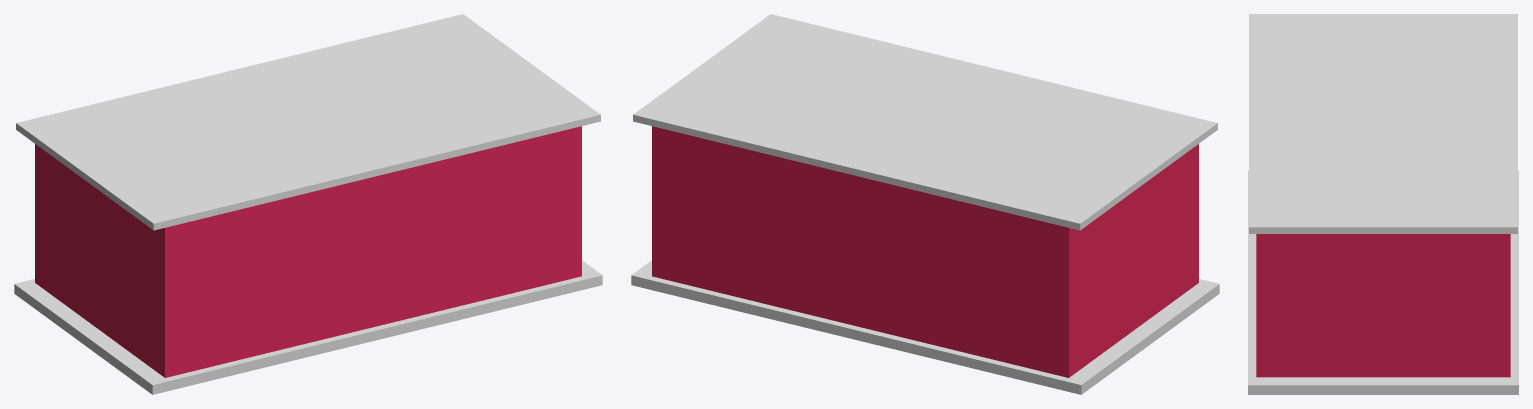
File: vat_of_goop.fbx
The picture shows the model from 3 angles, left to right: view 1: azimuth 30°, elevation 25°; view 2: azimuth 150°, elevation 25°; view 3: azimuth 270°, elevation 25°; orthographic projection. The views are drawn at different scales.
Parts seen in each view (by area): view 1: Cube; view 2: Cube; view 3: Cube.
Boxes of the visible parts, x1,y1,x2,y2 form: Cube: (14,14,602,394); Cube: (631,14,1219,394); Cube: (1248,14,1518,394).
Size of the model in its own units: 750 by 271 by 399.
